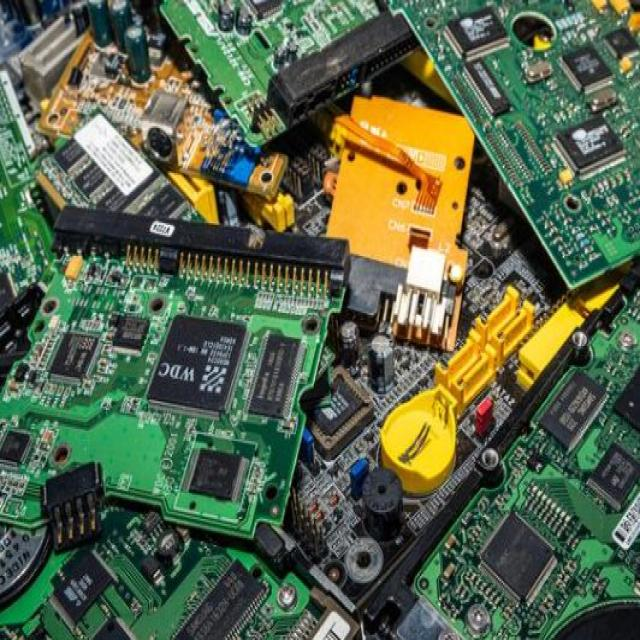electronic: (29, 171, 357, 620)
